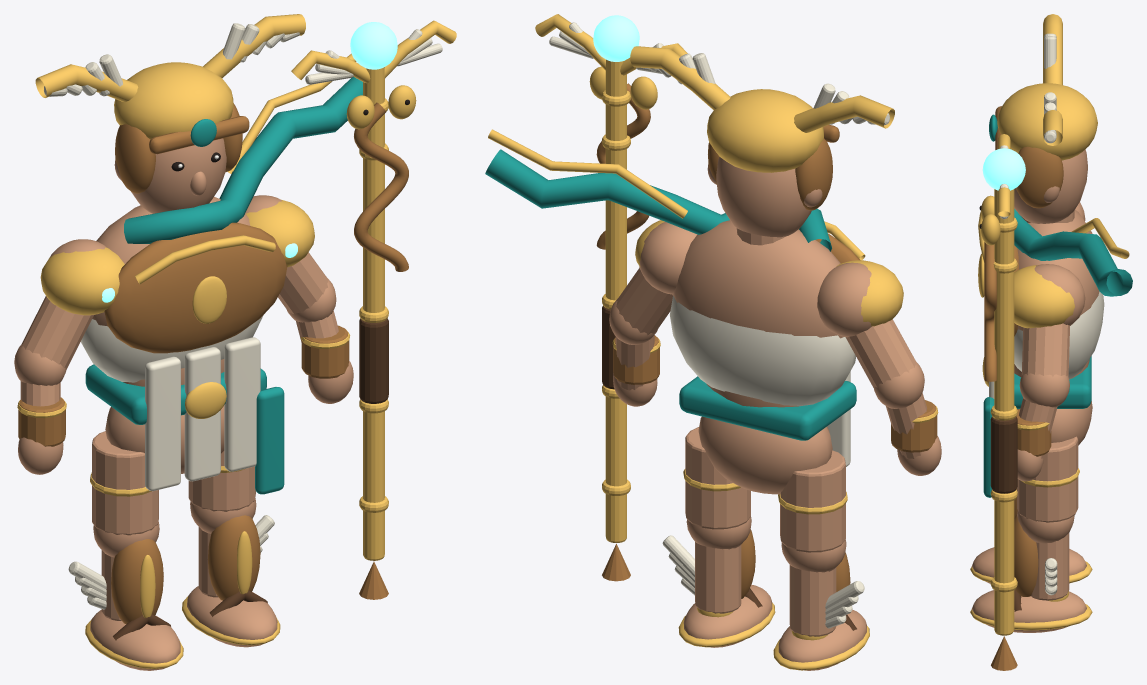
The model's file is HermesModel.fbx.
3 views of the same model, side by side, from view 1: azimuth 30°, elevation 25°; view 2: azimuth 150°, elevation 25°; view 3: azimuth 270°, elevation 25° (orthographic). The views are drawn at different scales.
Parts seen in each view (by area): view 1: Gold Chestplate, Hermes Flowing Scarf, Caduceus Staff Shaft, Hermes Helmet, Upper Leg, Tunic Front Panel, Tunic Front Panel.002, Bronze Shoulder Guard, Hermes Head, Tunic Front Panel.001, Ivory Tunic, Golden Serpent Body (+43 smaller); view 2: Chest, Ivory Tunic, Hermes Helmet, Hermes Flowing Scarf, Caduceus Staff Shaft, Pelvis, Hermes Head, Teal Waist Sash, Upper Leg, Upper Leg.001, Shoulder, Lower Leg.001 (+30 smaller); view 3: Caduceus Staff Shaft, Hermes Helmet, Hermes Flowing Scarf, Upper Leg.001, Bronze Shoulder Guard.001, Upper Arm.001, Hermes Head, Foot.001, Ivory Tunic, Staff Leather Grip, Helmet Side Guard.001, Chest (+26 smaller).
Boxes of the visible parts, bbox=[...] form: Gold Chestplate: bbox=[104, 222, 287, 353]; Hermes Flowing Scarf: bbox=[124, 77, 362, 243]; Caduceus Staff Shaft: bbox=[363, 67, 384, 560]; Hermes Helmet: bbox=[114, 62, 233, 139]; Upper Leg: bbox=[92, 431, 158, 535]; Tunic Front Panel: bbox=[145, 356, 180, 491]; Tunic Front Panel.002: bbox=[224, 337, 260, 471]; Bronze Shoulder Guard: bbox=[40, 247, 124, 315]; Hermes Head: bbox=[131, 138, 226, 213]; Tunic Front Panel.001: bbox=[184, 347, 220, 481]; Ivory Tunic: bbox=[80, 315, 263, 382]; Golden Serpent Body: bbox=[354, 102, 408, 271]; Chest: bbox=[672, 220, 843, 338]; Ivory Tunic: bbox=[670, 295, 856, 406]; Hermes Helmet: bbox=[707, 89, 823, 172]; Hermes Flowing Scarf: bbox=[485, 149, 831, 251]; Caduceus Staff Shaft: bbox=[605, 59, 626, 542]; Pelvis: bbox=[698, 416, 832, 494]; Hermes Head: bbox=[716, 157, 811, 237]; Teal Waist Sash: bbox=[679, 376, 856, 440]; Upper Leg: bbox=[780, 450, 845, 552]; Upper Leg.001: bbox=[685, 427, 750, 529]; Shoulder: bbox=[817, 262, 871, 337]; Lower Leg.001: bbox=[695, 542, 741, 613]; Caduceus Staff Shaft: bbox=[994, 189, 1014, 635]; Hermes Helmet: bbox=[997, 83, 1097, 160]; Hermes Flowing Scarf: bbox=[1014, 209, 1132, 296]; Upper Leg.001: bbox=[1017, 436, 1078, 522]; Bronze Shoulder Guard.001: bbox=[1014, 265, 1074, 328]; Upper Arm.001: bbox=[1021, 323, 1069, 377]; Hermes Head: bbox=[1014, 149, 1087, 223]; Foot.001: bbox=[972, 590, 1086, 632]; Ivory Tunic: bbox=[1014, 291, 1104, 379]; Staff Leather Grip: bbox=[990, 416, 1017, 493]; Helmet Side Guard.001: bbox=[1016, 146, 1063, 208]; Chest: bbox=[1017, 209, 1099, 330].
Size of what is drawn, in the model's own units: 245 by 332 by 90.36.
